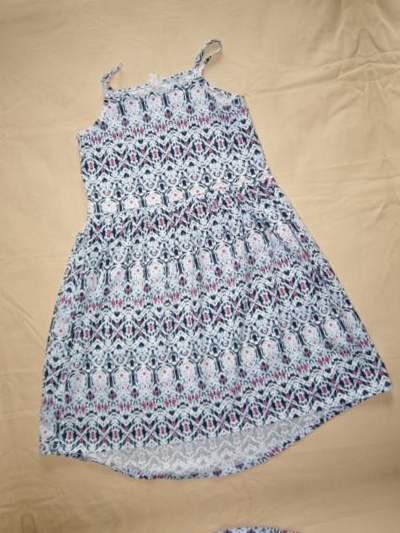Dress: (0, 0, 400, 514), (41, 491, 400, 533), (372, 0, 400, 443), (0, 69, 18, 533)
